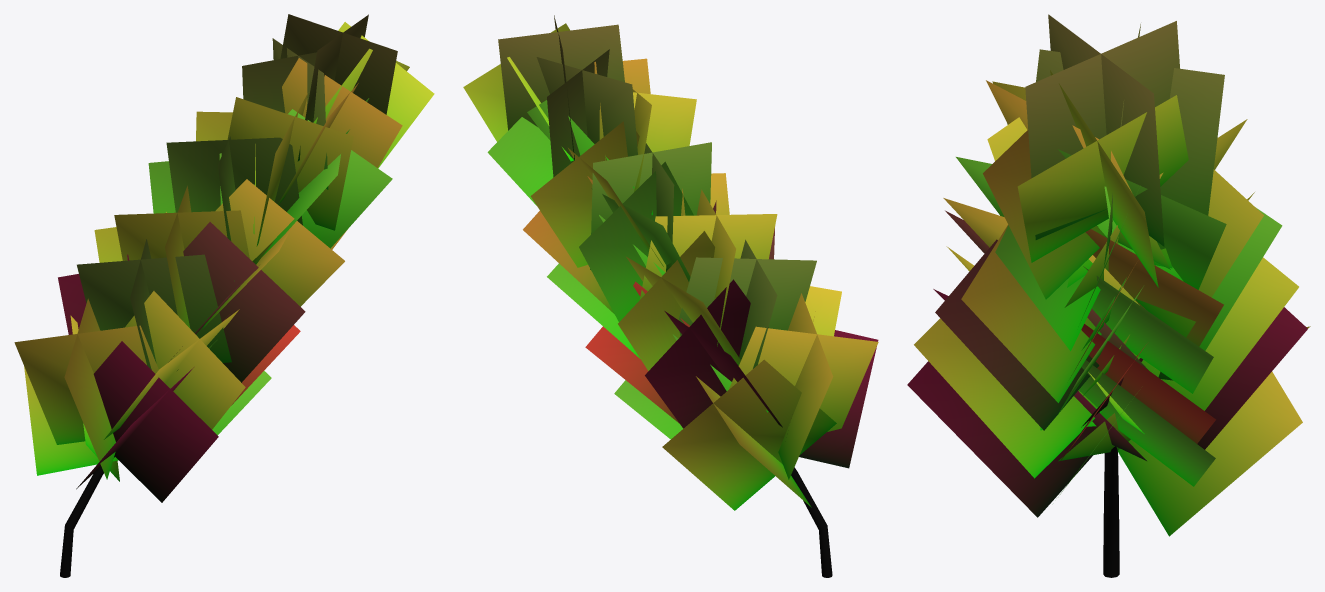
Rendered from Tree_5.fbx.
3 views of the same model, side by side, from view 1: azimuth 30°, elevation 25°; view 2: azimuth 150°, elevation 25°; view 3: azimuth 270°, elevation 25° (orthographic). The views are drawn at different scales.
Visible parts, largest first — view 1: Tree_5; view 2: Tree_5; view 3: Tree_5.
Part boxes in pixels (x1,y1,x2,y2): Tree_5: (14,14,434,577); Tree_5: (463,15,878,577); Tree_5: (907,14,1310,577).
Size of the model in its own units: 1093 by 1321 by 658.
